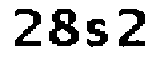2: (115, 2, 151, 52), (12, 7, 44, 50)
8: (47, 2, 80, 48)
s: (86, 15, 109, 50)
